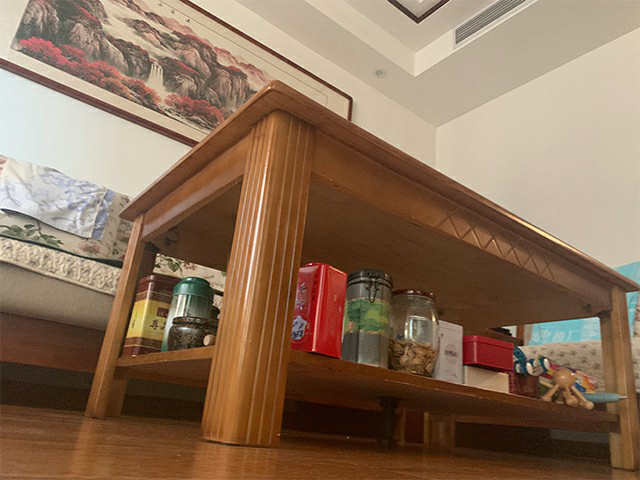sofa: (1, 156, 130, 378)
table: (82, 79, 640, 471)
